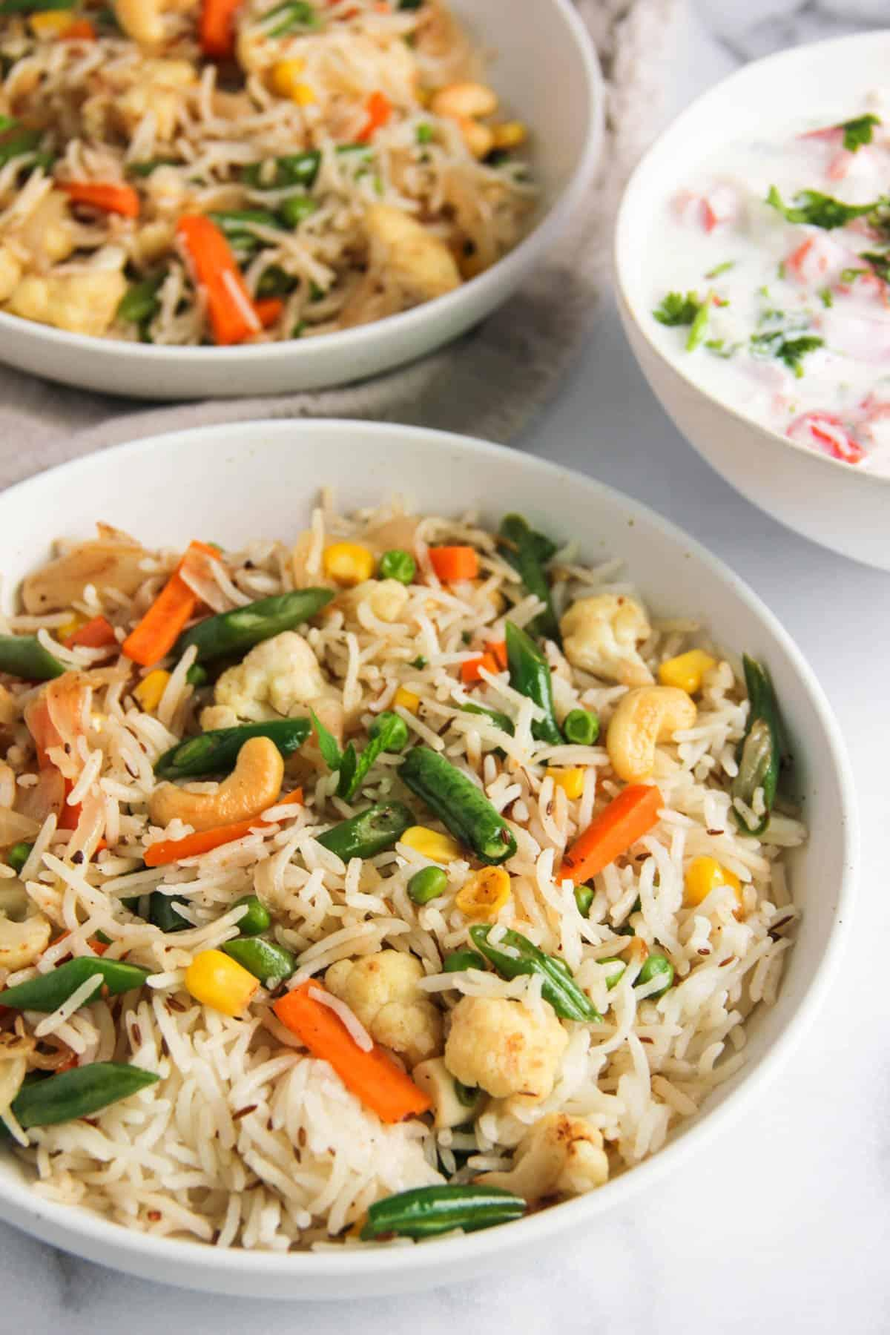veg-pulao: (1, 483, 693, 1244), (0, 0, 543, 361)
yogurt: (669, 83, 890, 557)
